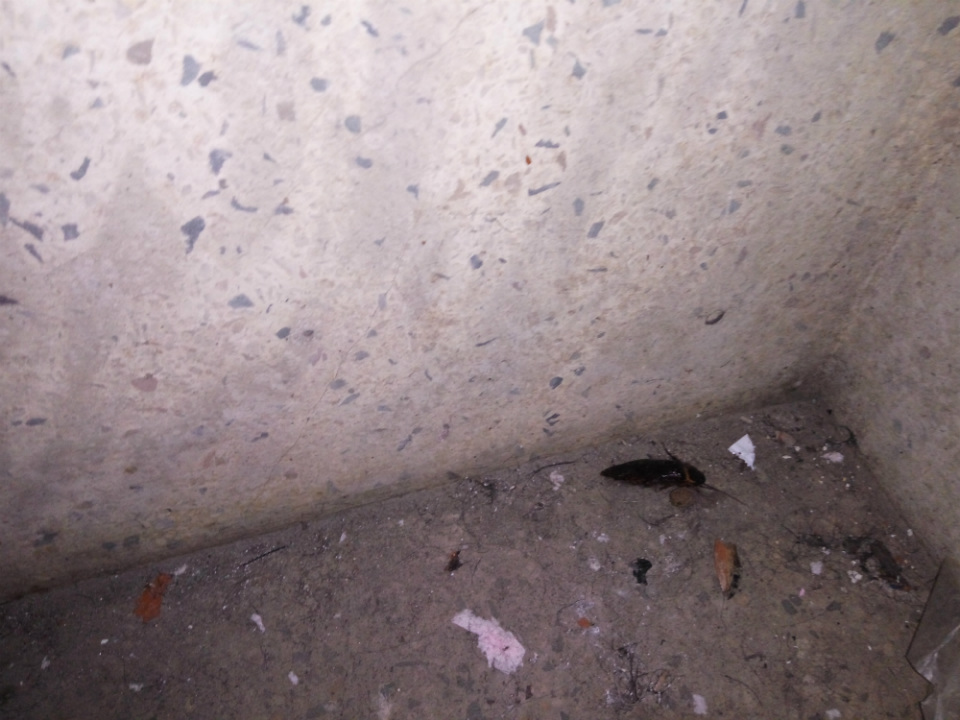cockroach: (576, 419, 754, 510)
